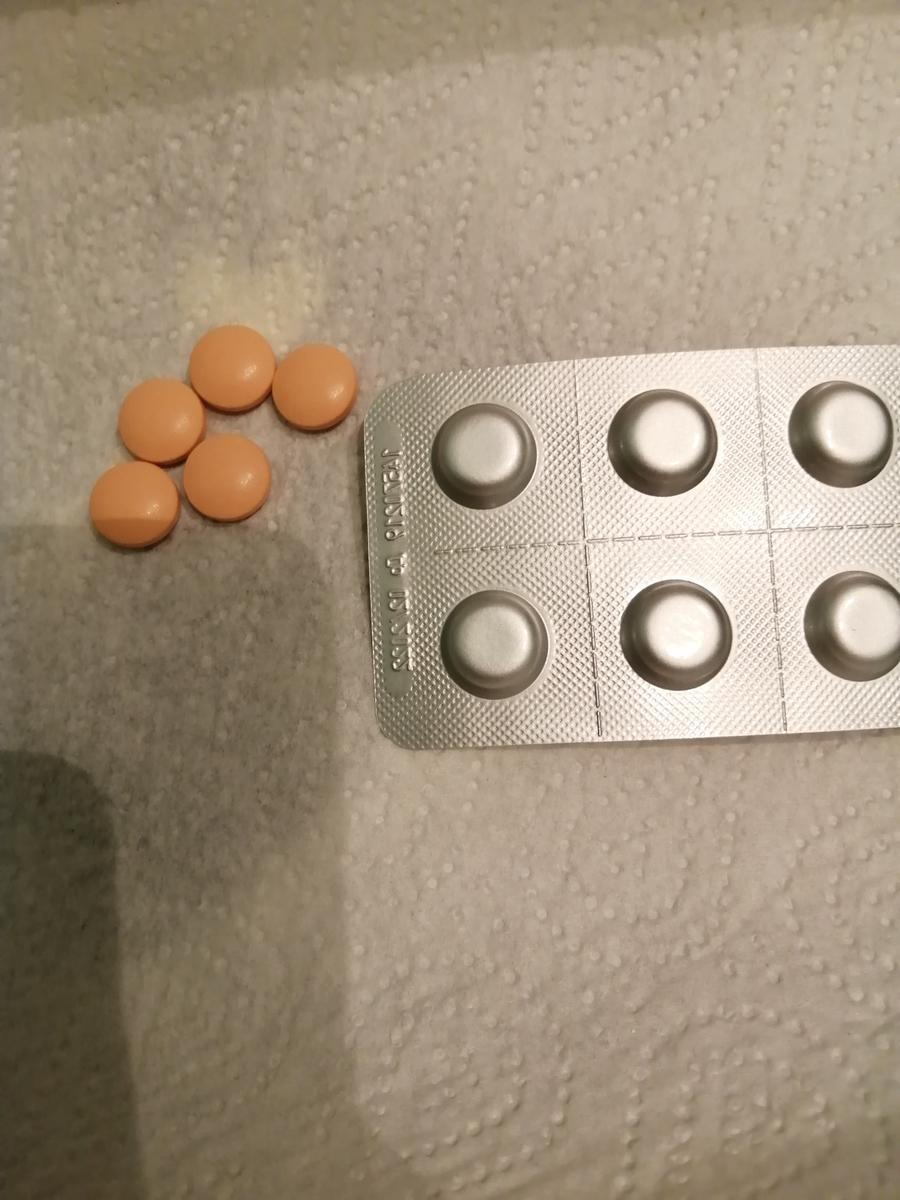tablet: (88, 459, 183, 552), (443, 592, 541, 682), (804, 382, 891, 478), (617, 393, 708, 483), (182, 435, 273, 524), (635, 588, 729, 674), (115, 375, 204, 465), (273, 344, 356, 436), (187, 324, 275, 410), (443, 407, 525, 497), (824, 582, 900, 664)
